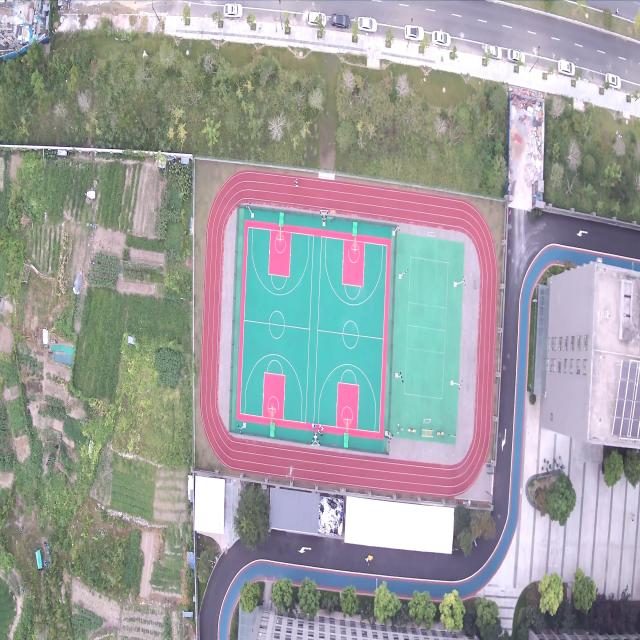drone: (286, 463, 295, 480)
